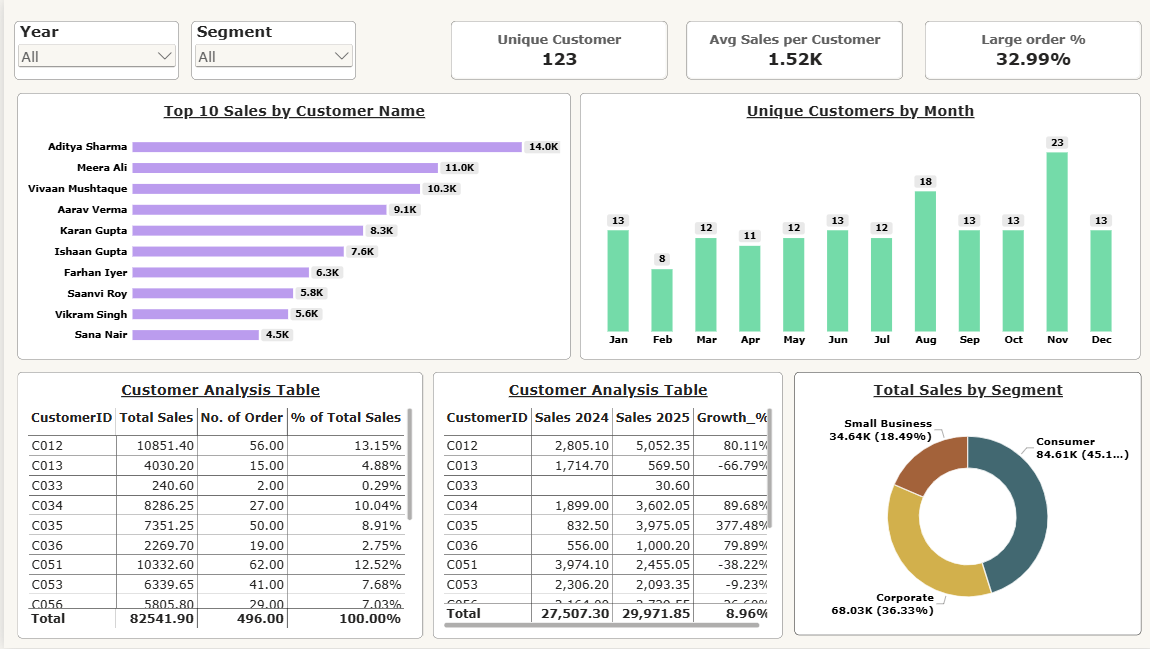

The dashboard page shown, as its layout file describes it:
{"tool":"powerbi","page":{"name":"CUSTOMER ANALYSIS","canvas":[1920,1080],"ordinal":3},"visuals":[{"type":"slicer","fields":{"Values":["Date Table.Year"]},"box":[17.6,35.2,274.1,98.1],"z":0},{"type":"slicer","fields":{"Values":["Customers.Segment"]},"box":[312.1,34.1,274.1,98.1],"z":1000},{"type":"cardVisual","fields":{"Data":["Measure Customer.Large order %"]},"box":[1533.9,34.1,360.9,97.5],"z":2000},{"type":"cardVisual","fields":{"Data":["Measure Customer.Avg Sales per Customer"]},"box":[1136.4,34.1,360.9,97.5],"z":3000},{"type":"cardVisual","fields":{"Data":["Measure Customer.Unique Customer"]},"box":[746.2,34.1,360.9,97.5],"z":4000},{"type":"barChart","title":"Top 10 Sales by Customer Name","fields":{"Category":["Customers.CustomerName"],"Y":["Measure Overview.Total Sales"]},"box":[21.9,156.1,921.8,443.8],"z":5000},{"type":"tableEx","title":"Customer Analysis Table","fields":{"Values":["Sales.CustomerID","Measure Overview.Total Sales","Measure Overview.Number of Order","Measure Customer.% of Total Sales1"]},"box":[21.9,619.4,675.5,443.8],"z":6000},{"type":"tableEx","title":"Customer Analysis Table","fields":{"Values":["Sales.CustomerID","Measure Customer.Sales 2024","Measure Customer.Sales 2025","Measure Customer.Growth_%"]},"box":[714.5,619.4,582.8,443.8],"z":7000},{"type":"donutChart","fields":{"Category":["Customers.Segment"],"Y":["Measure Table.Total Sales"]},"box":[1316.9,619.4,578,439],"z":8000},{"type":"columnChart","title":"Unique Customers by Month","fields":{"Category":["Date Table.Month"],"Y":["Measure Overview.Unique Customers"]},"box":[960.8,156.1,934,443.8],"z":9000}]}

Visuals, with their boxes in screenshot pixels (x1, y1, x2, y2), scaled from the page's 1920x1080 canvas onto the 1150x649 screenshot:
slicer - Date Table.Year: select_region(11, 21, 175, 80)
slicer - Customers.Segment: select_region(187, 20, 351, 79)
cardVisual - Measure Customer.Large order %: select_region(919, 20, 1135, 79)
cardVisual - Measure Customer.Avg Sales per Customer: select_region(681, 20, 897, 79)
cardVisual - Measure Customer.Unique Customer: select_region(447, 20, 663, 79)
"Top 10 Sales by Customer Name" barChart: select_region(13, 94, 565, 360)
"Customer Analysis Table" tableEx: select_region(13, 372, 418, 639)
"Customer Analysis Table" tableEx: select_region(428, 372, 777, 639)
donutChart - Customers.Segment x Measure Table.Total Sales: select_region(789, 372, 1135, 636)
"Unique Customers by Month" columnChart: select_region(575, 94, 1135, 360)
